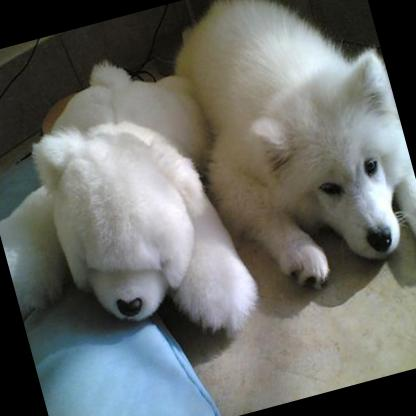Samoyed: (0, 36, 262, 382), (158, 0, 416, 311)
